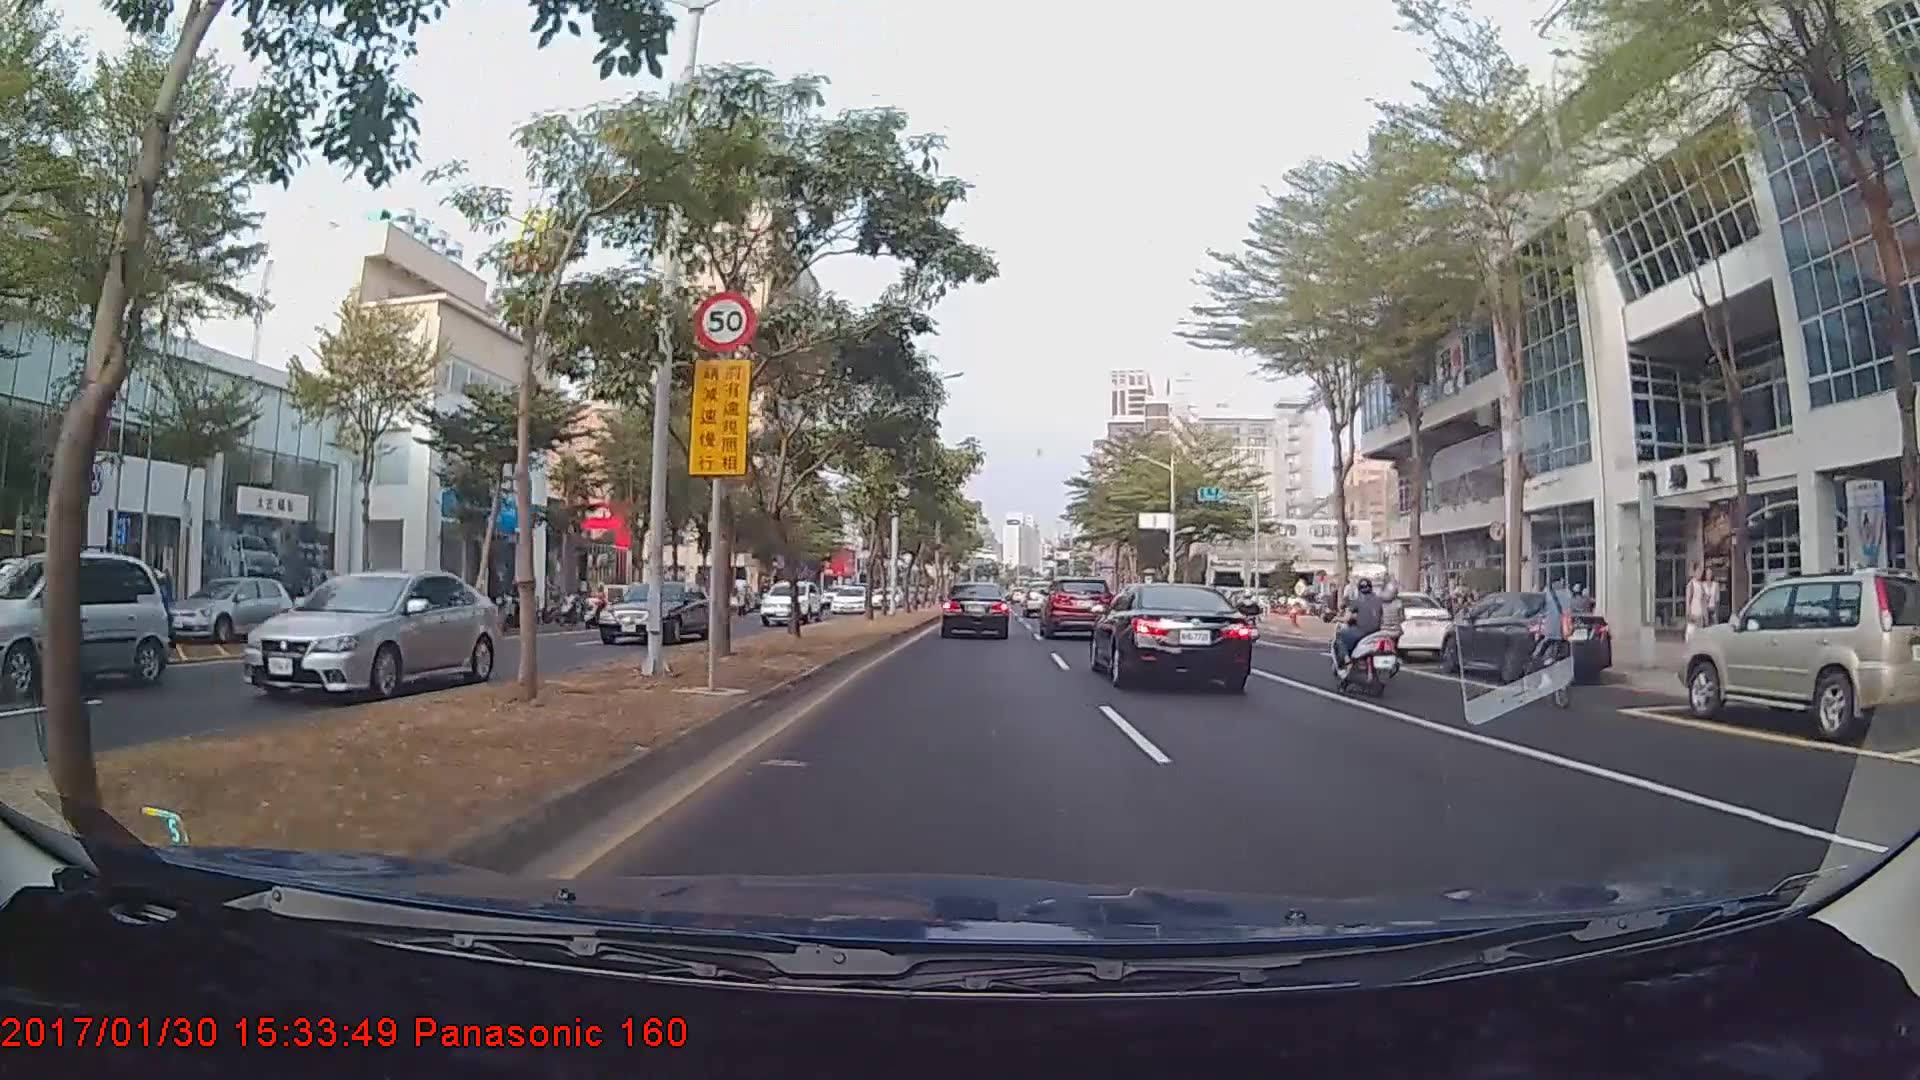pedestrian: (1686, 566, 1710, 658), (1702, 568, 1724, 658)
rider: (1514, 572, 1591, 716), (1326, 575, 1409, 703), (1368, 581, 1417, 681), (1233, 592, 1264, 636)
vehicle: (1676, 571, 1920, 741), (242, 569, 502, 703), (0, 546, 171, 696), (1093, 576, 1255, 693), (1438, 586, 1610, 685), (1332, 591, 1460, 668), (164, 575, 293, 643), (594, 577, 717, 645), (1041, 577, 1109, 639), (940, 580, 1011, 640), (757, 581, 822, 627), (1022, 581, 1061, 618), (829, 587, 868, 615)
